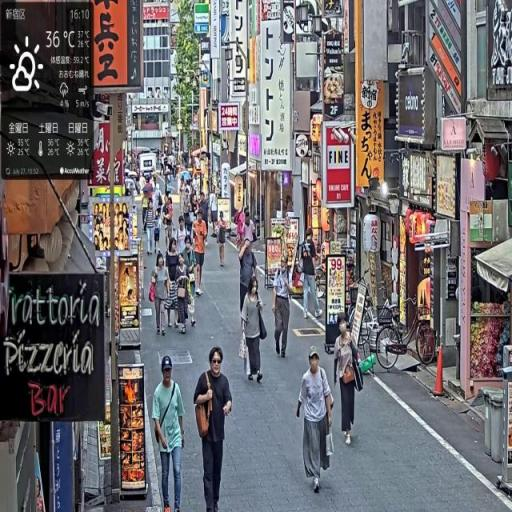person: (195, 344, 235, 512), (296, 348, 336, 497), (152, 354, 188, 512), (335, 319, 365, 449), (242, 278, 270, 387), (272, 253, 297, 360), (300, 233, 322, 323), (151, 252, 173, 339), (193, 209, 209, 298), (216, 208, 229, 269)
